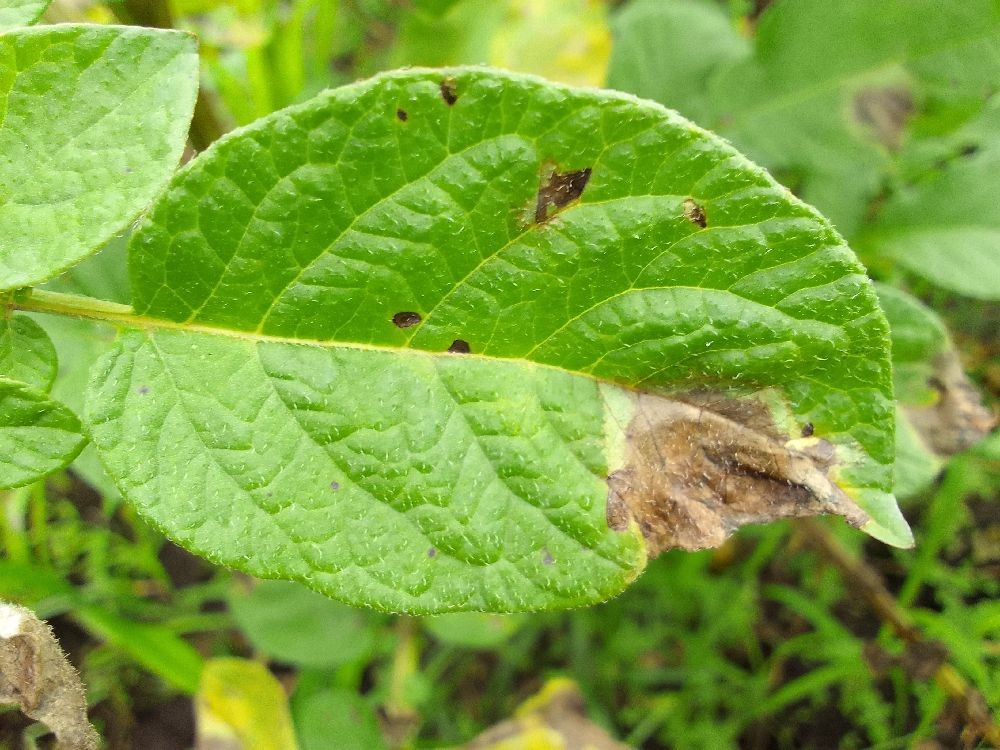late_blight: (587, 367, 999, 749), (349, 583, 706, 750), (0, 580, 271, 750), (886, 278, 1000, 475)
